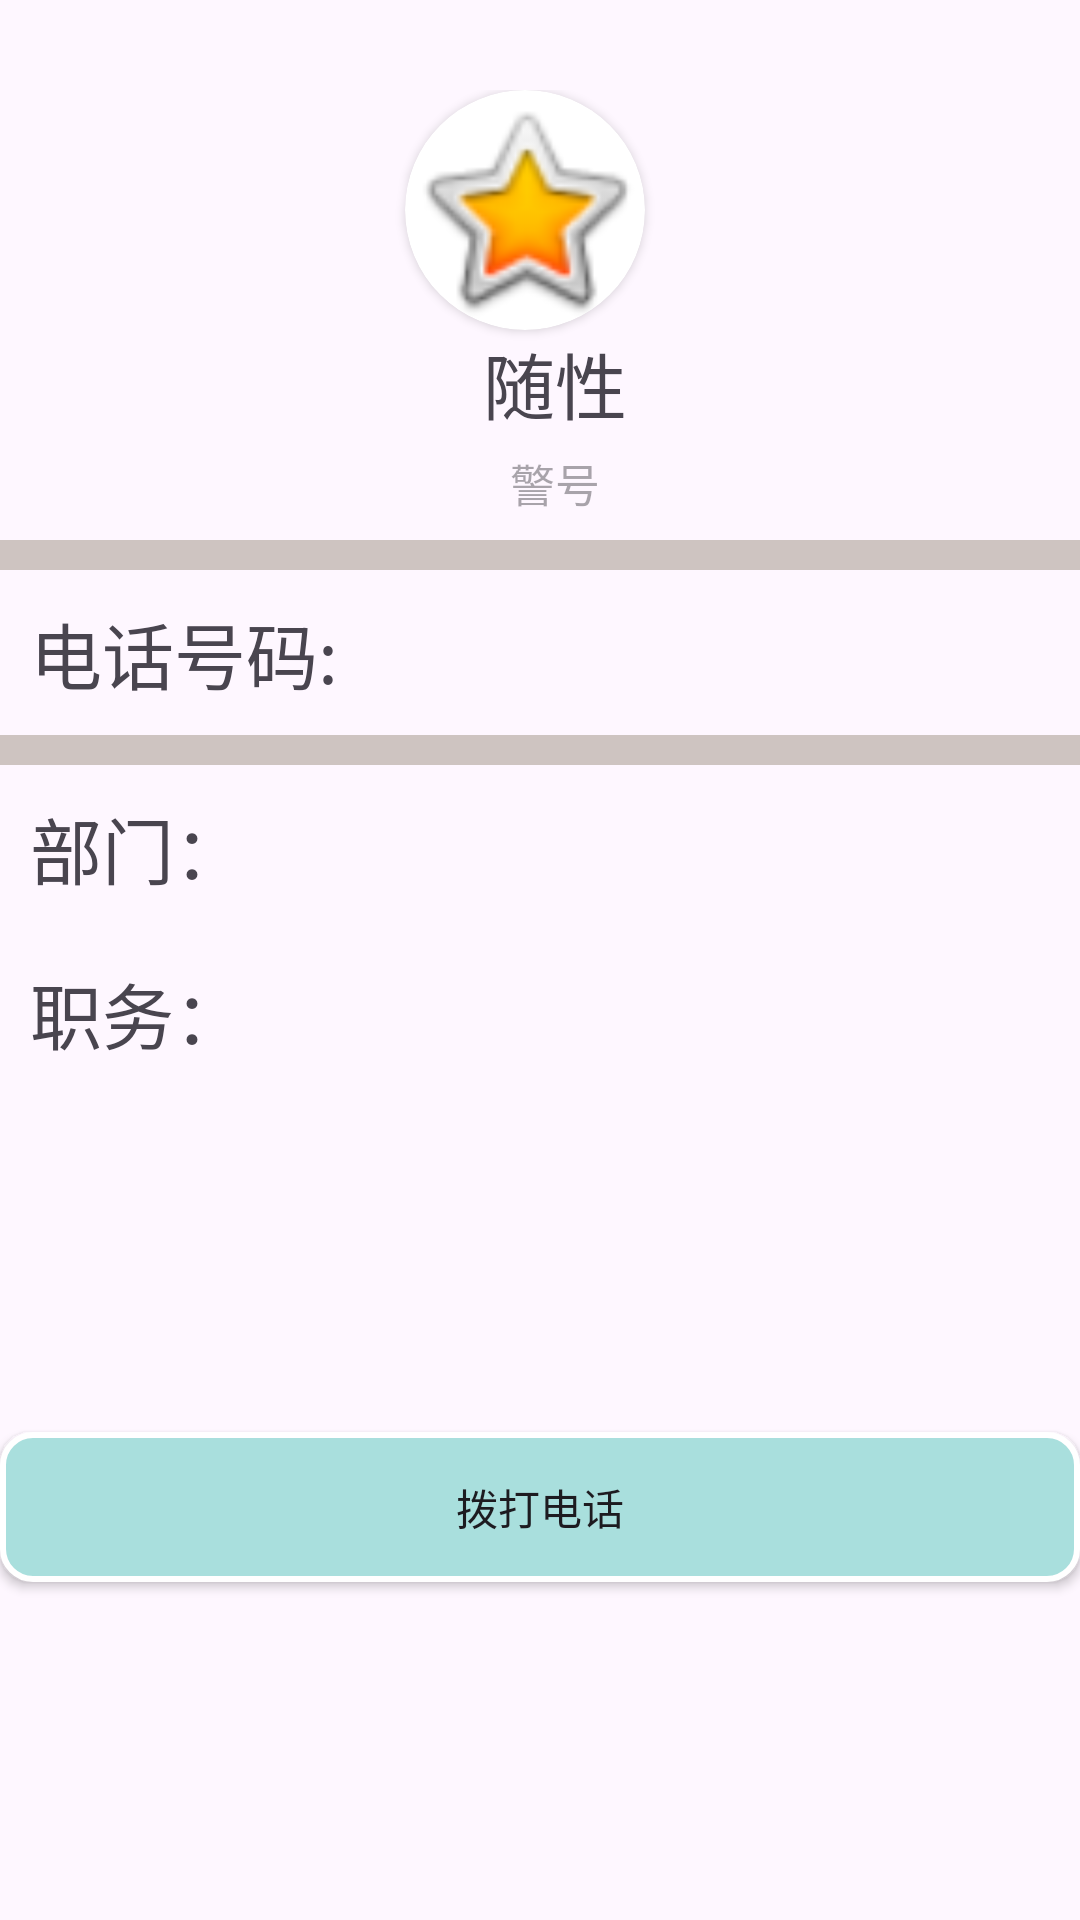

Icon bounding boxes for this 1080 x 1920 phone screenshot, format rect(x1, y1, x2, y2):
star on: rect(427, 114, 627, 310)
